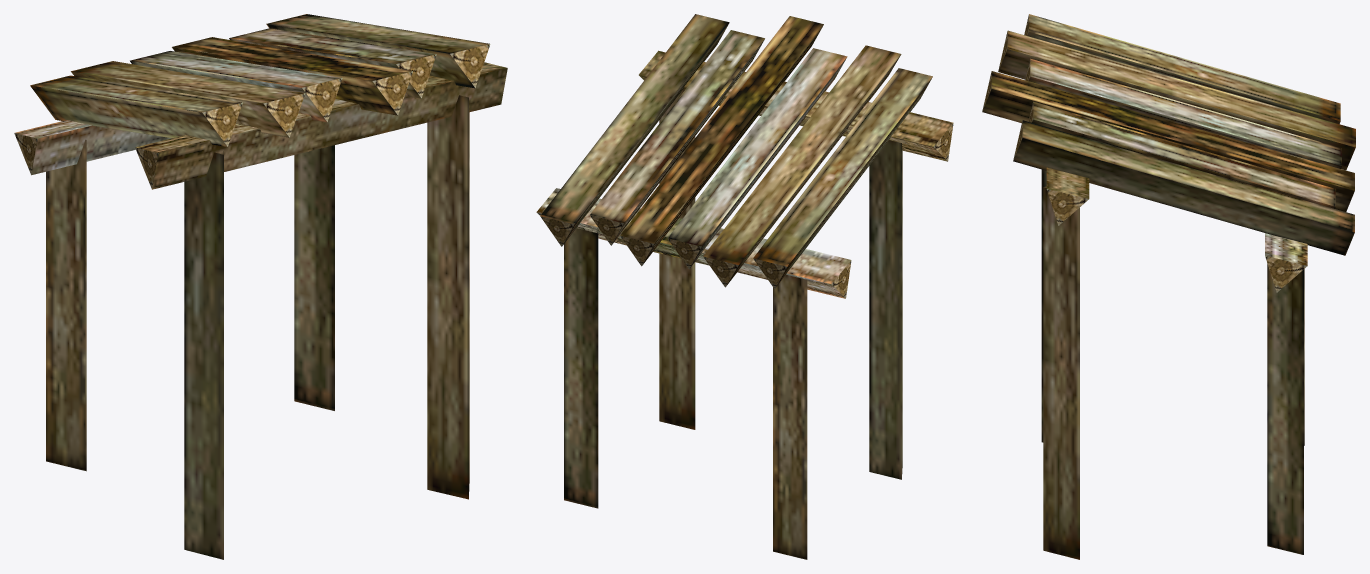
Rendered from awning_wooden_sm.dae.
The picture shows the model from 3 angles, left to right: view 1: azimuth 30°, elevation 25°; view 2: azimuth 150°, elevation 25°; view 3: azimuth 270°, elevation 25°; orthographic projection. The views are drawn at different scales.
Visible parts, largest first — view 1: Object02; view 2: Object02; view 3: Object02.
Boxes of the visible parts, x1=… form: Object02: x1=14, y1=14, x2=507, y2=559; Object02: x1=536, y1=14, x2=953, y2=559; Object02: x1=982, y1=14, x2=1355, y2=559.
Bounding box in the file's own units: 4.32 × 5.55 × 4.43.
